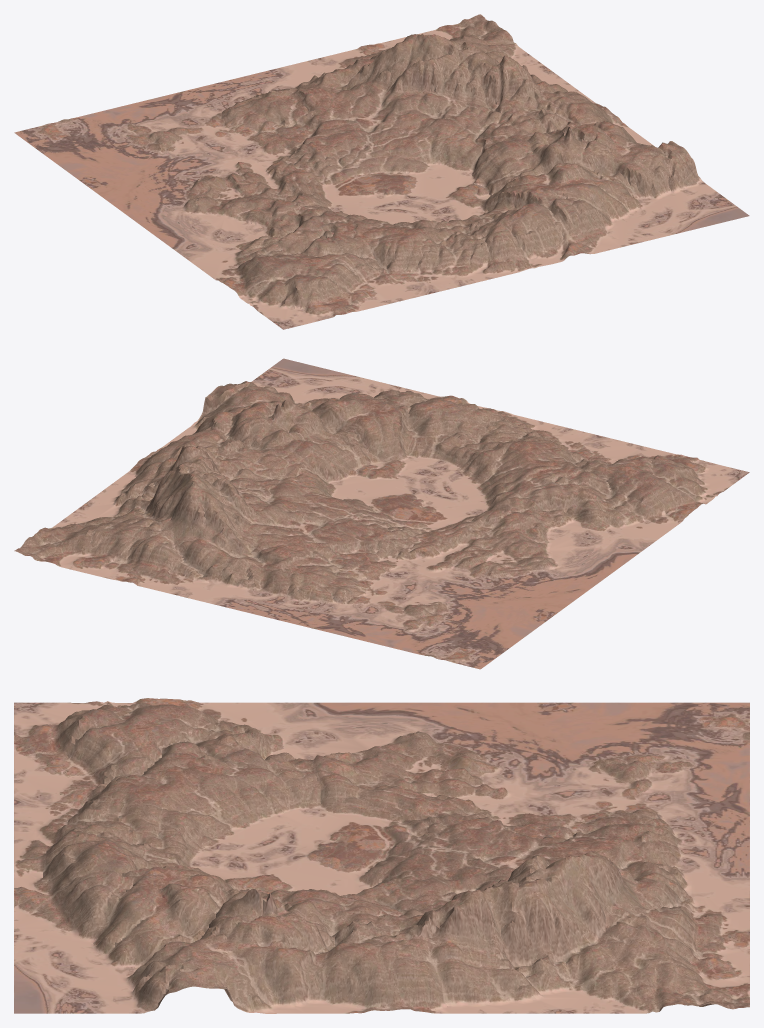
File: sand_rock_pack_09.glb
3 views of the same model, one above another, from view 1: azimuth 30°, elevation 25°; view 2: azimuth 150°, elevation 25°; view 3: azimuth 270°, elevation 25° (orthographic). The views are drawn at different scales.
Visible parts, largest first — view 1: Mesher_MesherMat_0; view 2: Mesher_MesherMat_0; view 3: Mesher_MesherMat_0.
Boxes of the visible parts, x1,y1,x2,y2 form: Mesher_MesherMat_0: (14, 14, 749, 329); Mesher_MesherMat_0: (14, 358, 749, 669); Mesher_MesherMat_0: (14, 698, 749, 1013).
Size of the model in its own units: 50 by 6.23 by 50.
Materials: 1 (1 with a texture image).
